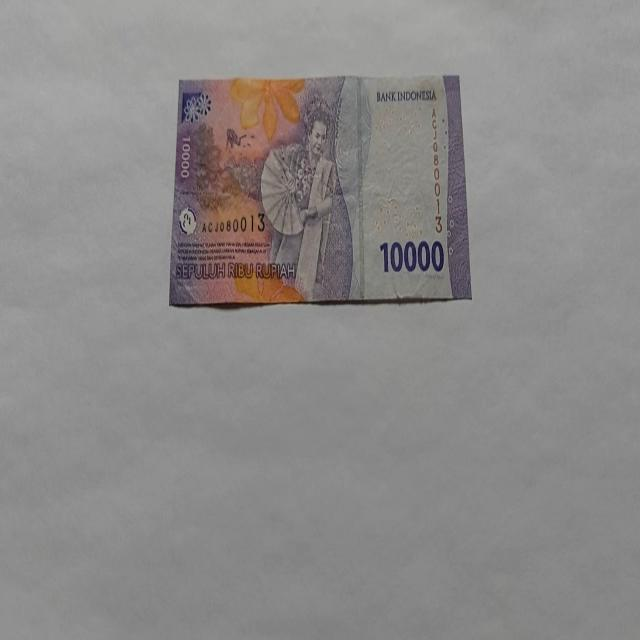sepuluh ribu rupiah: (168, 72, 472, 308), (378, 237, 446, 274)
